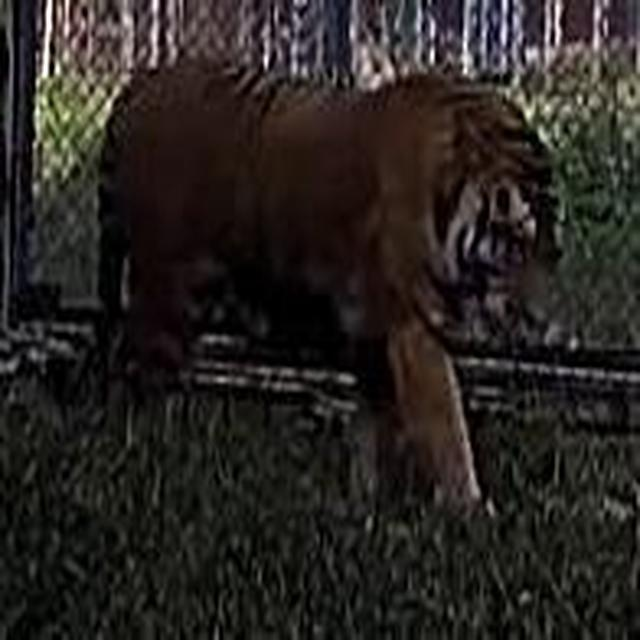tiger: (92, 56, 574, 522)
